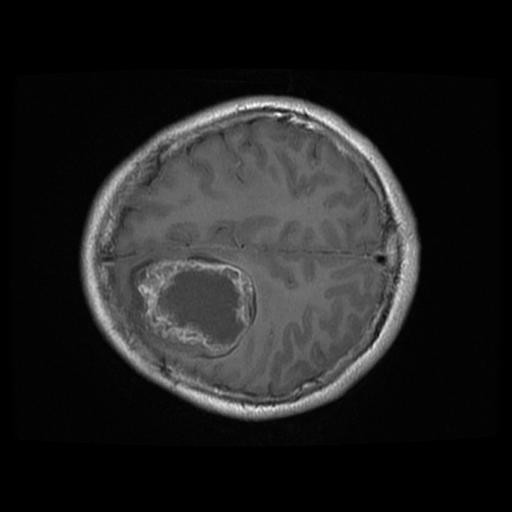glioma: (127, 250, 258, 359)
